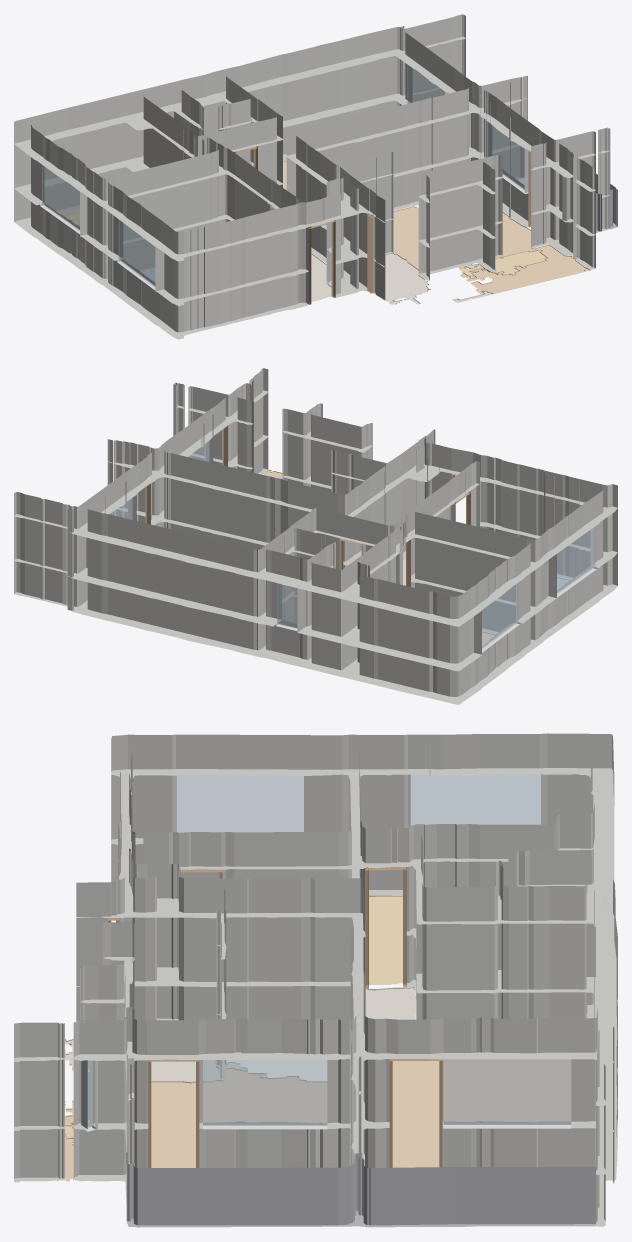
3 views of the same model, one above another, from view 1: azimuth 30°, elevation 25°; view 2: azimuth 150°, elevation 25°; view 3: azimuth 270°, elevation 25° (orthographic). The views are drawn at different scales.
Parts seen in each view (by area): view 1: walls, floor_5_Living_Room, floor_11_Entry, window_12, window_10, window_11, window_9, floor_3_Kitchen, floor_12_Entry, railings, door_6, door_7; view 2: walls, window_12, window_10, window_8; view 3: walls, railings, floor_6_Living_Room, floor_5_Living_Room, window_9, window_11, window_12, window_10, floor_4_Kitchen, floor_12_Entry, floor_11_Entry, door_3 (+4 smaller).
Part boxes in pixels (x1=…): walls: x1=14, y1=14, x2=610, y2=339; floor_5_Living_Room: x1=393, y1=206, x2=590, y2=294; floor_11_Entry: x1=385, y1=253, x2=430, y2=304; window_12: x1=118, y1=220, x2=158, y2=286; window_10: x1=42, y1=160, x2=79, y2=230; window_11: x1=487, y1=118, x2=527, y2=191; window_9: x1=407, y1=63, x2=444, y2=103; floor_3_Kitchen: x1=495, y1=249, x2=547, y2=274; floor_12_Entry: x1=311, y1=253, x2=331, y2=301; railings: x1=522, y1=147, x2=617, y2=232; door_6: x1=309, y1=220, x2=335, y2=304; door_7: x1=367, y1=213, x2=373, y2=293; walls: x1=14, y1=368, x2=617, y2=704; window_12: x1=552, y1=527, x2=595, y2=596; window_10: x1=476, y1=582, x2=518, y2=651; window_8: x1=277, y1=583, x2=297, y2=628; walls: x1=14, y1=733, x2=617, y2=1226; railings: x1=126, y1=1152, x2=595, y2=1227; floor_6_Living_Room: x1=392, y1=1059, x2=570, y2=1167; floor_5_Living_Room: x1=65, y1=1068, x2=326, y2=1181; window_9: x1=443, y1=1055, x2=571, y2=1124; window_11: x1=203, y1=1056, x2=327, y2=1125; window_12: x1=176, y1=772, x2=303, y2=832; window_10: x1=410, y1=774, x2=540, y2=825; floor_4_Kitchen: x1=369, y1=895, x2=402, y2=984; floor_12_Entry: x1=365, y1=986, x2=415, y2=1019; floor_11_Entry: x1=65, y1=1039, x2=220, y2=1083; door_3: x1=365, y1=867, x2=406, y2=988.
Size of the model in its own units: 12.67 by 2.72 by 9.54.
